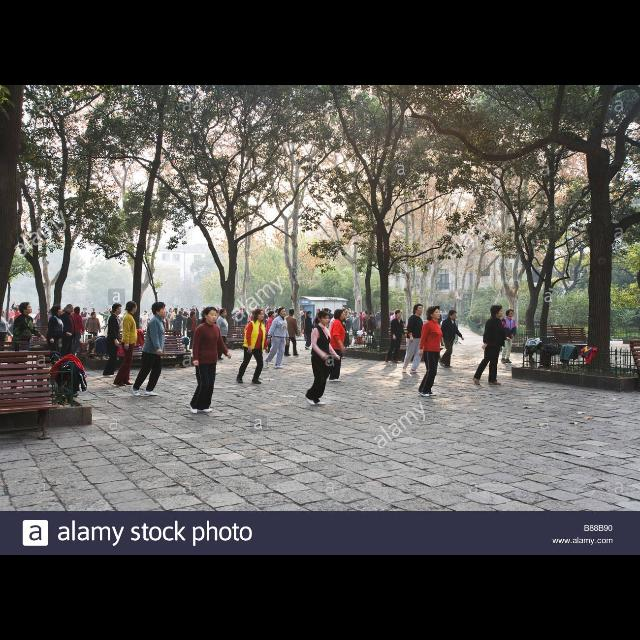head: (312, 311, 332, 357), (152, 302, 168, 318), (204, 306, 218, 324), (318, 311, 330, 325), (428, 306, 440, 320), (492, 304, 504, 318), (126, 301, 138, 313), (256, 308, 266, 322), (414, 302, 424, 316), (20, 304, 32, 314), (54, 306, 64, 316), (112, 304, 122, 314), (278, 308, 288, 318), (335, 310, 345, 320), (66, 304, 74, 314), (449, 311, 457, 321), (220, 309, 228, 317), (338, 312, 346, 320), (507, 310, 515, 318), (268, 312, 276, 318), (396, 310, 402, 318), (91, 313, 97, 319), (190, 312, 196, 318), (289, 310, 295, 316), (306, 311, 312, 317), (370, 312, 376, 318), (76, 308, 80, 314), (316, 309, 320, 315), (91, 309, 95, 313), (170, 309, 174, 313), (179, 312, 183, 316), (180, 309, 184, 313), (196, 308, 200, 312), (306, 312, 310, 316), (353, 313, 357, 317), (175, 308, 178, 312), (84, 308, 86, 312), (366, 311, 368, 315), (439, 312, 441, 314)
person: (190, 306, 232, 414), (131, 302, 167, 398), (305, 310, 341, 406), (472, 304, 512, 386), (11, 301, 45, 383), (237, 308, 269, 386), (112, 300, 140, 388), (418, 306, 444, 398), (44, 305, 74, 373), (436, 310, 466, 370), (262, 308, 290, 370), (402, 302, 426, 373), (103, 302, 123, 378), (328, 309, 348, 383), (385, 309, 407, 365), (498, 309, 518, 365), (61, 304, 77, 371), (312, 311, 332, 357), (68, 306, 86, 356), (214, 308, 230, 362), (284, 308, 300, 358), (84, 312, 102, 348), (171, 310, 191, 342), (184, 312, 200, 351), (263, 311, 277, 355), (336, 308, 348, 359), (304, 311, 316, 351), (312, 308, 324, 348), (169, 308, 183, 340), (367, 313, 379, 347), (190, 304, 202, 336), (351, 312, 361, 346), (166, 307, 178, 335), (177, 308, 191, 332), (301, 311, 311, 343), (78, 306, 90, 332), (362, 310, 372, 340), (90, 308, 98, 330), (438, 312, 444, 326)
